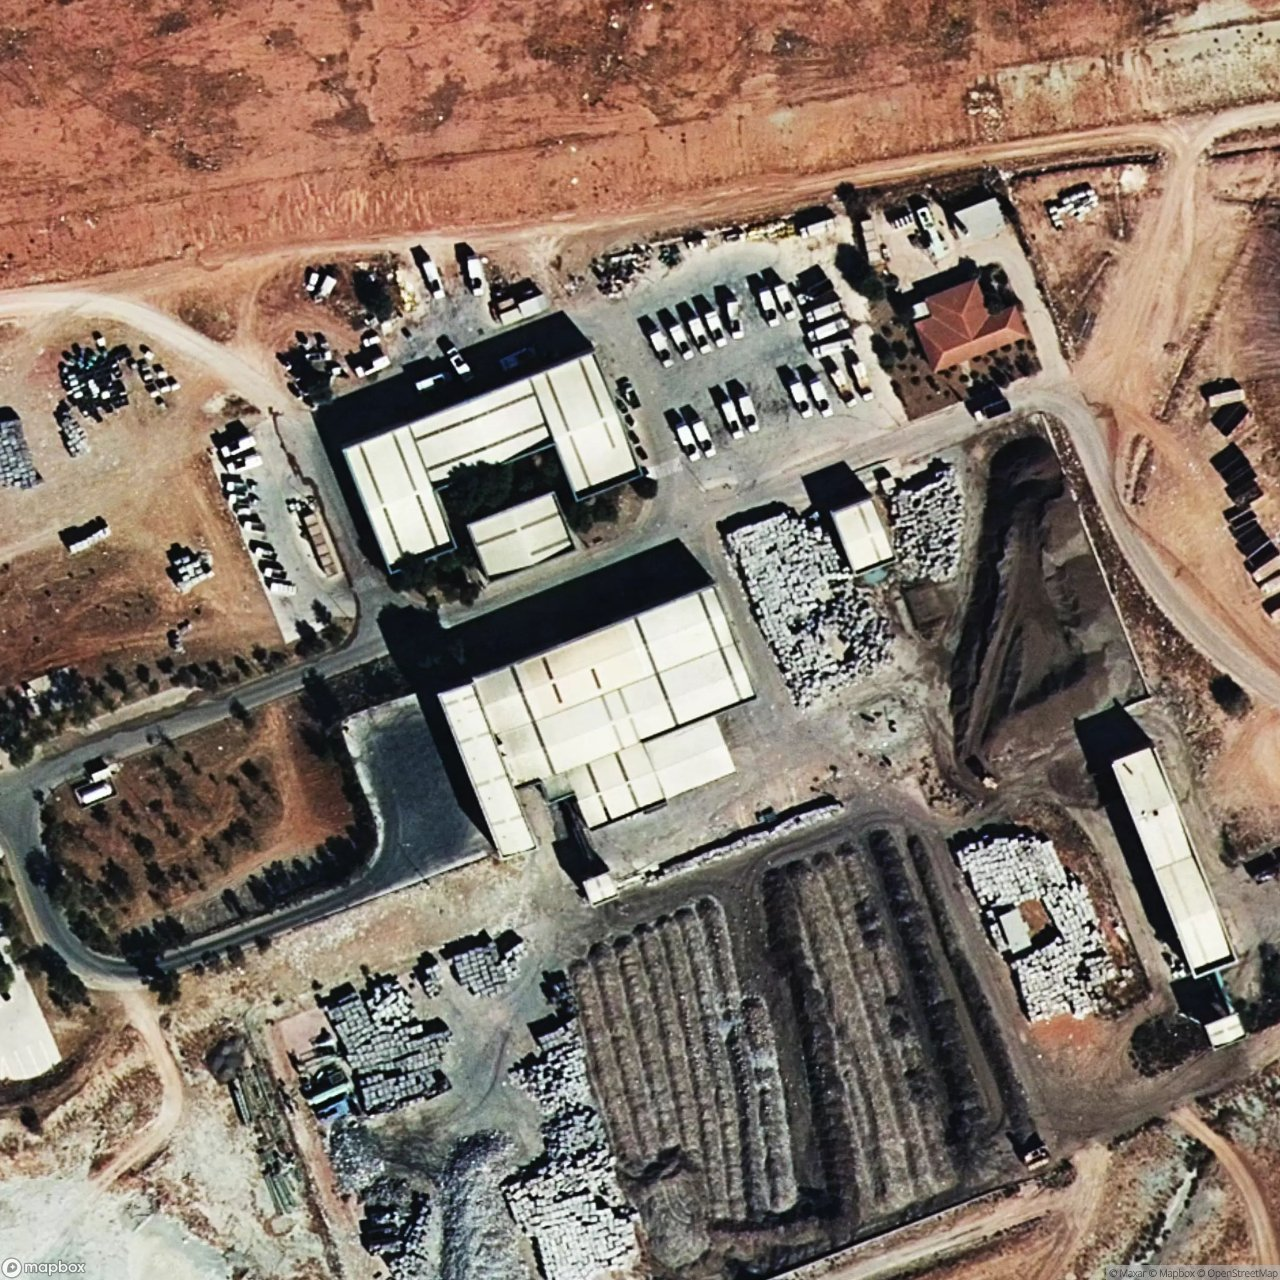dump_site: (728, 506, 906, 717)
